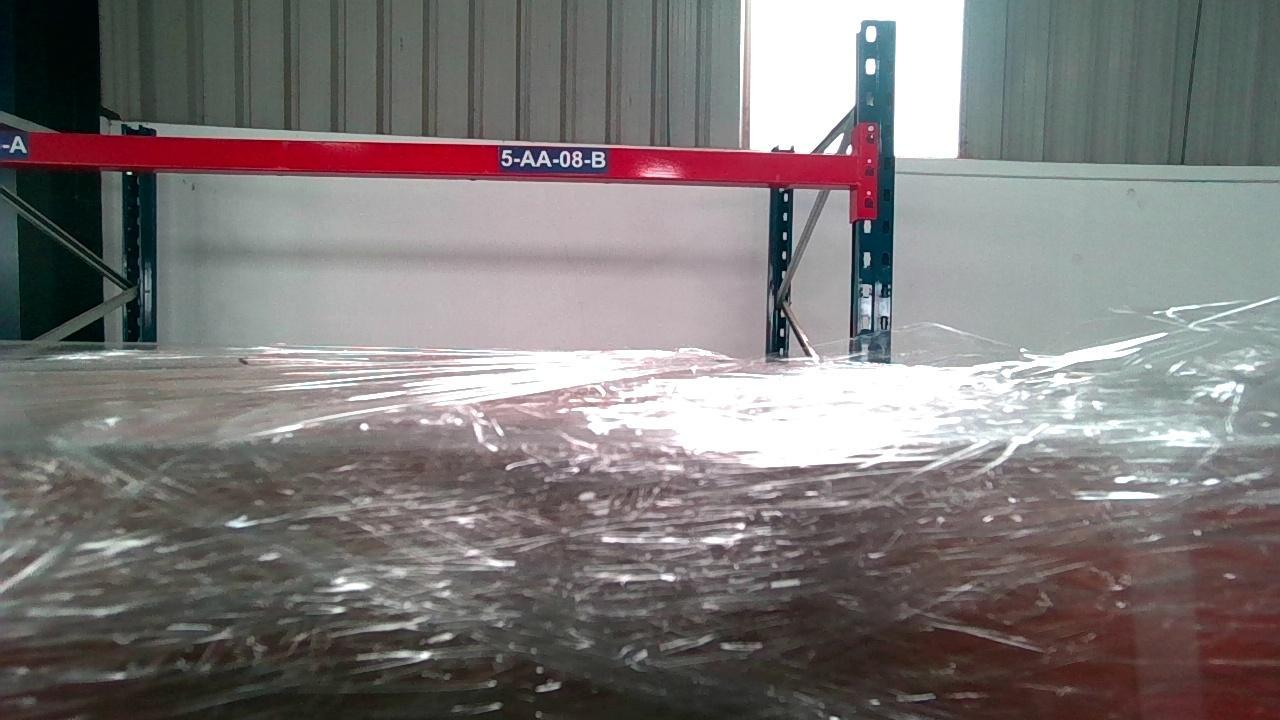h_rack: (0, 128, 865, 185)
